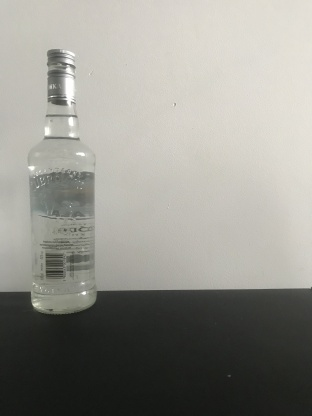nakretka: (45, 47, 77, 105)
